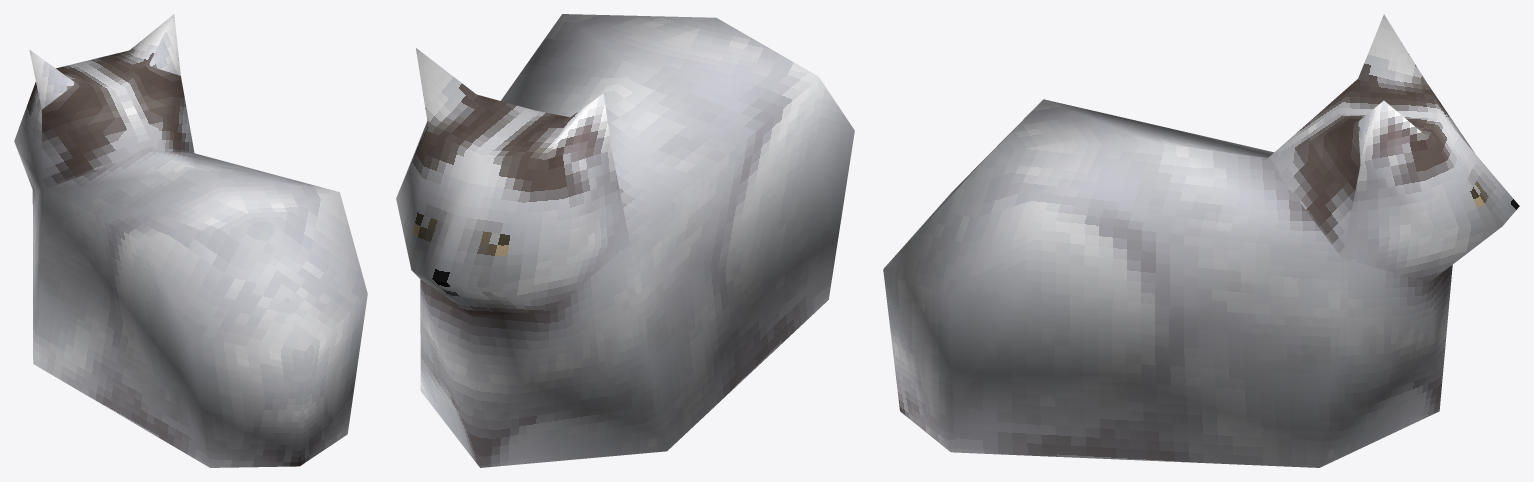
Rendered from CatLoafWhite64.fbx.
3 renders of one model, left to right at view 1: azimuth 30°, elevation 25°; view 2: azimuth 150°, elevation 25°; view 3: azimuth 270°, elevation 25°, orthographic. The views are drawn at different scales.
Visible parts, largest first — view 1: CatLoafWhite64; view 2: CatLoafWhite64; view 3: CatLoafWhite64.
Boxes of the visible parts, bbox=[...] form: CatLoafWhite64: bbox=[14, 14, 367, 467]; CatLoafWhite64: bbox=[396, 14, 854, 467]; CatLoafWhite64: bbox=[883, 14, 1519, 467].
Bounding box in the file's own units: 0.1732 × 0.2427 × 0.3954.
1 material, 1 textured.
